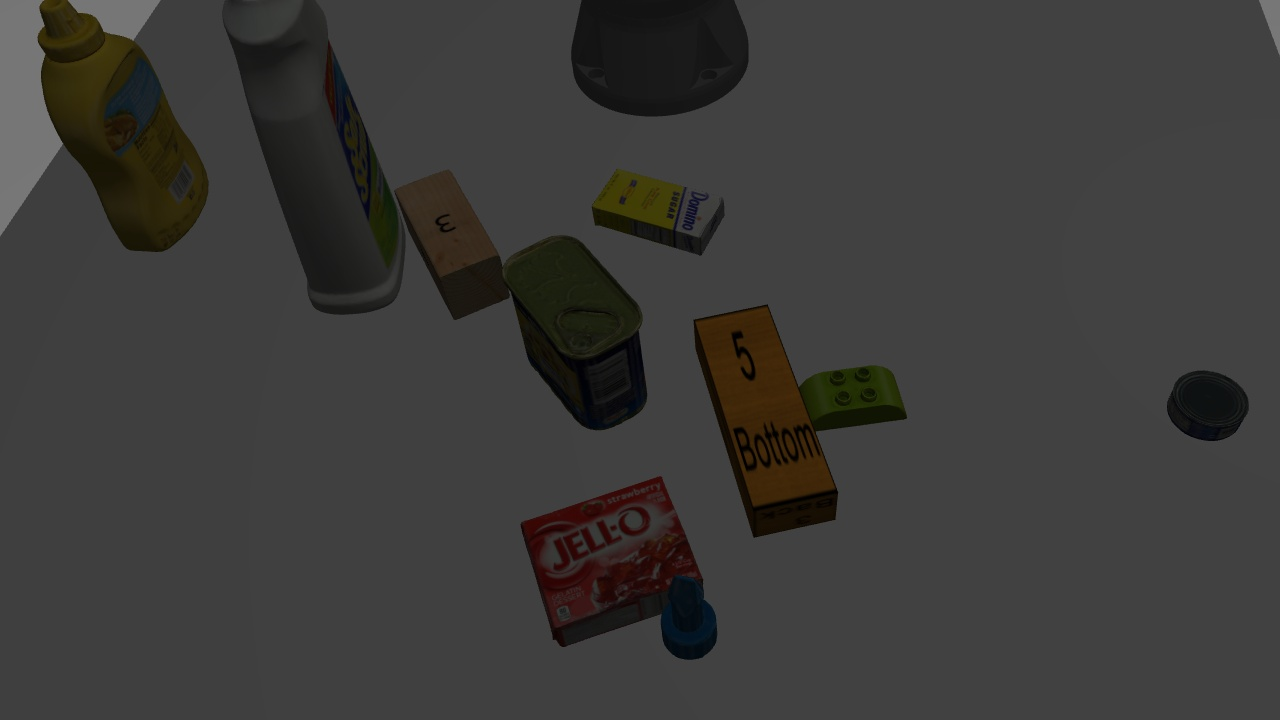gelatin_box: (518, 475, 701, 649)
jenga: (691, 293, 834, 534)
mustard_bottle: (29, 5, 208, 245)
potted_meat_can: (508, 228, 648, 426)
wood_block: (389, 160, 517, 310)
